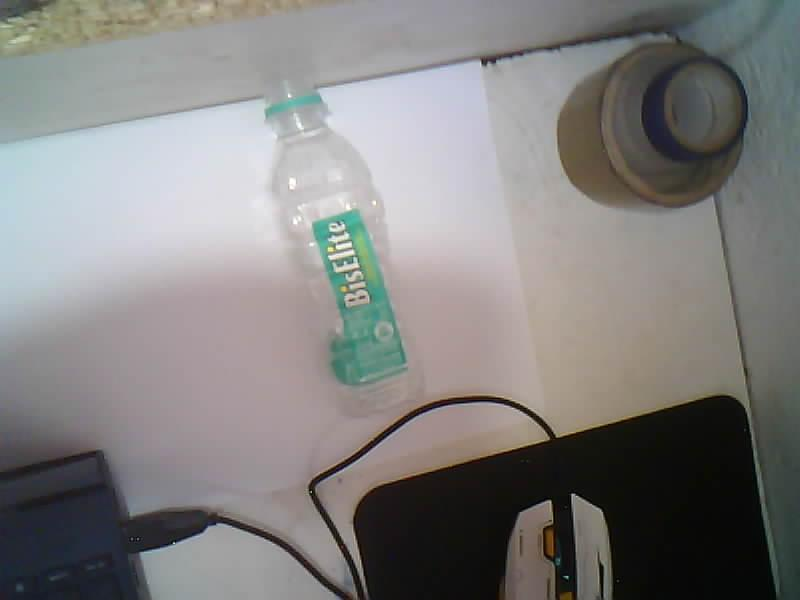non-biodegradable: (265, 81, 419, 414)
